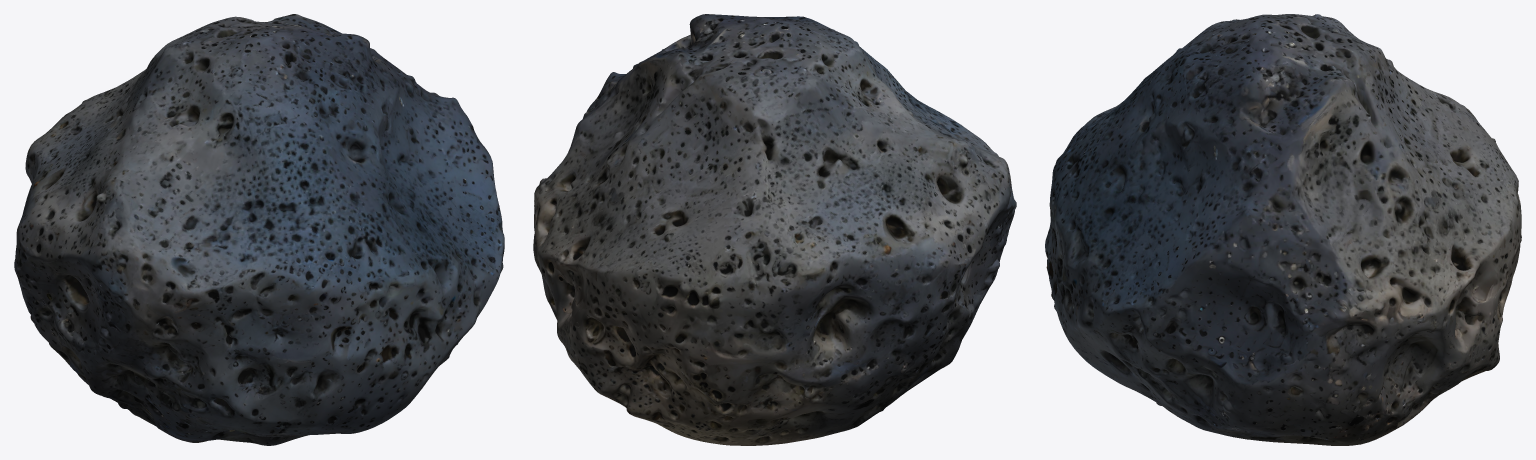
File: nature-rock-volcanic.glb
3 views of the same model, side by side, from view 1: azimuth 30°, elevation 25°; view 2: azimuth 150°, elevation 25°; view 3: azimuth 270°, elevation 25° (orthographic). The views are drawn at different scales.
Visible parts, largest first — view 1: tripo_node_cb15a548-2c72-49fb-a684-d7808cb2fa6e; view 2: tripo_node_cb15a548-2c72-49fb-a684-d7808cb2fa6e; view 3: tripo_node_cb15a548-2c72-49fb-a684-d7808cb2fa6e.
Boxes of the visible parts, box(x1,y1,x2,y2) form: tripo_node_cb15a548-2c72-49fb-a684-d7808cb2fa6e: box(14, 14, 504, 445); tripo_node_cb15a548-2c72-49fb-a684-d7808cb2fa6e: box(533, 14, 1016, 445); tripo_node_cb15a548-2c72-49fb-a684-d7808cb2fa6e: box(1045, 14, 1521, 445).
Size of the model in its own units: 1.73 by 1.5 by 1.68.
Materials: 1 (1 with a texture image).
